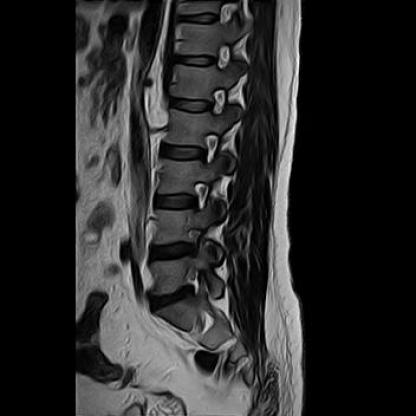Disc Bulgerotation: (147, 232, 204, 272), (147, 279, 199, 318)
